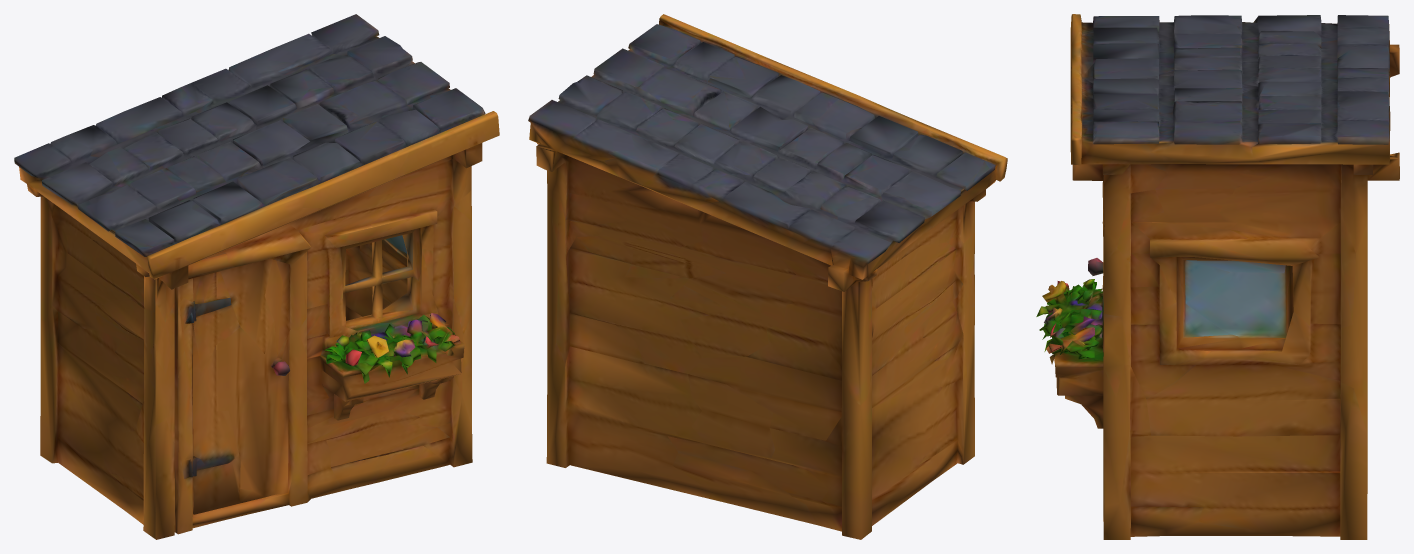
Rendered from shed.glb.
3 views of the same model, side by side, from view 1: azimuth 30°, elevation 25°; view 2: azimuth 150°, elevation 25°; view 3: azimuth 270°, elevation 25° (orthographic). The views are drawn at different scales.
Parts seen in each view (by area): view 1: shed-node; view 2: shed-node; view 3: shed-node.
Boxes of the visible parts, bbox=[...] form: shed-node: bbox=[14, 14, 499, 539]; shed-node: bbox=[528, 14, 1007, 539]; shed-node: bbox=[1036, 14, 1399, 539].
Size of the model in its own units: 1.02 by 1 by 0.8066.
Materials: 1 (1 with a texture image).
